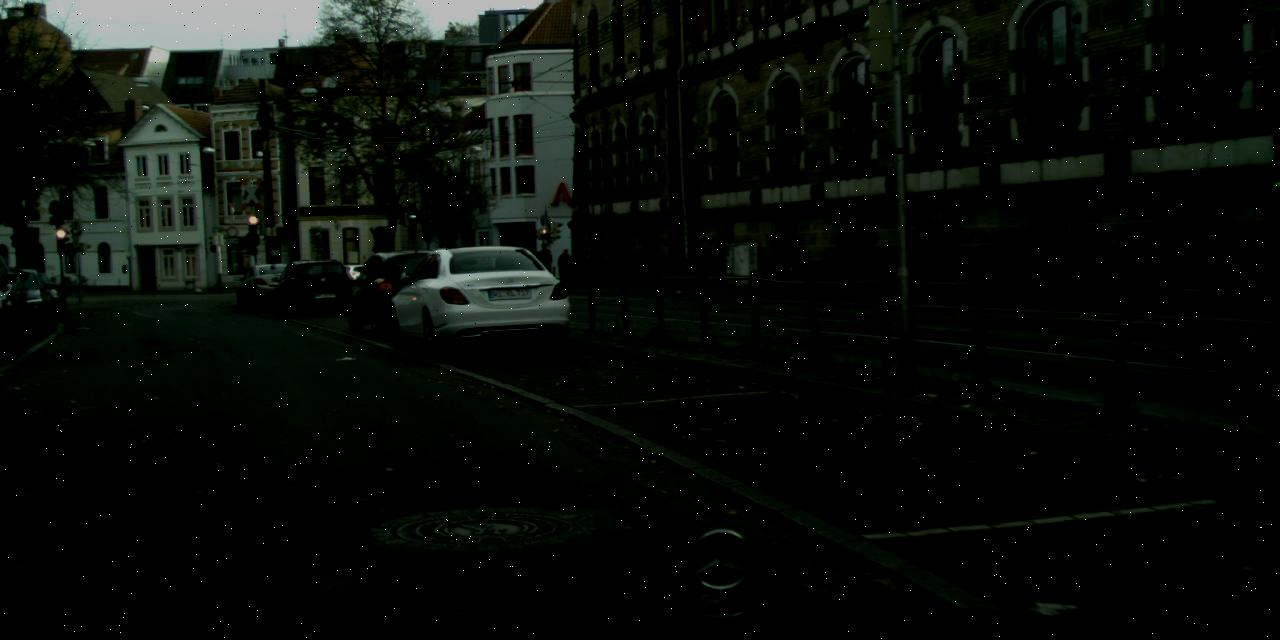ped: (1254, 180, 1278, 300), (534, 242, 552, 286), (557, 248, 573, 288)
